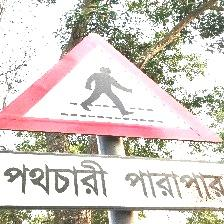Pedestrian-crossing: (0, 28, 223, 211)
